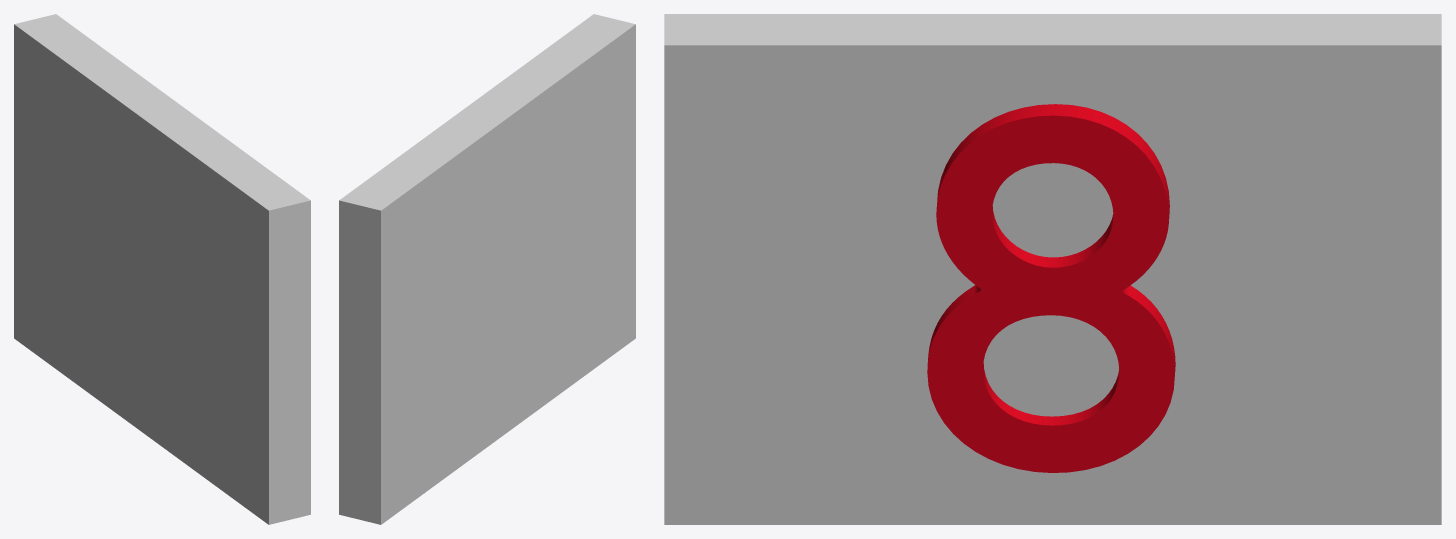
File: row 8.fbx
3 views of the same model, side by side, from view 1: azimuth 30°, elevation 25°; view 2: azimuth 150°, elevation 25°; view 3: azimuth 270°, elevation 25° (orthographic). The views are drawn at different scales.
Visible parts, largest first — view 1: Cube; view 2: Cube; view 3: Cube, Text.
Boxes of the visible parts, <box> form: Cube: <box>14,14,310,524</box>; Cube: <box>339,14,635,524</box>; Cube: <box>664,14,1441,524</box>; Text: <box>927,104,1175,472</box>.
Size of the model in its own units: 41.1 by 212 by 312.
